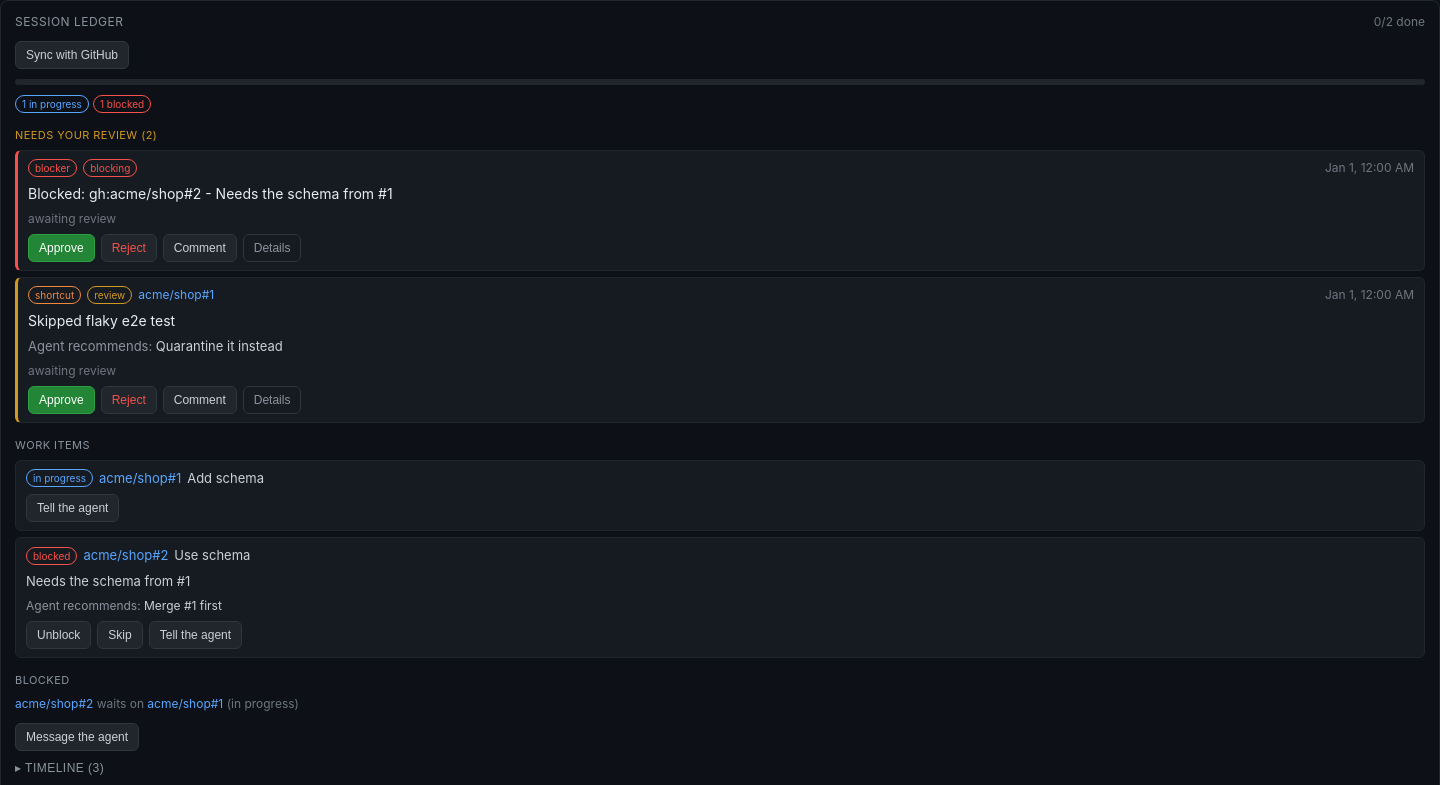
Test: LedgerPanel › reports GitHub errors from a sync, and a failed sync
This screenshot has width=1440, height=785.
Click the button "Sync with GitHub" at (72, 55), box [15,41,129,69]
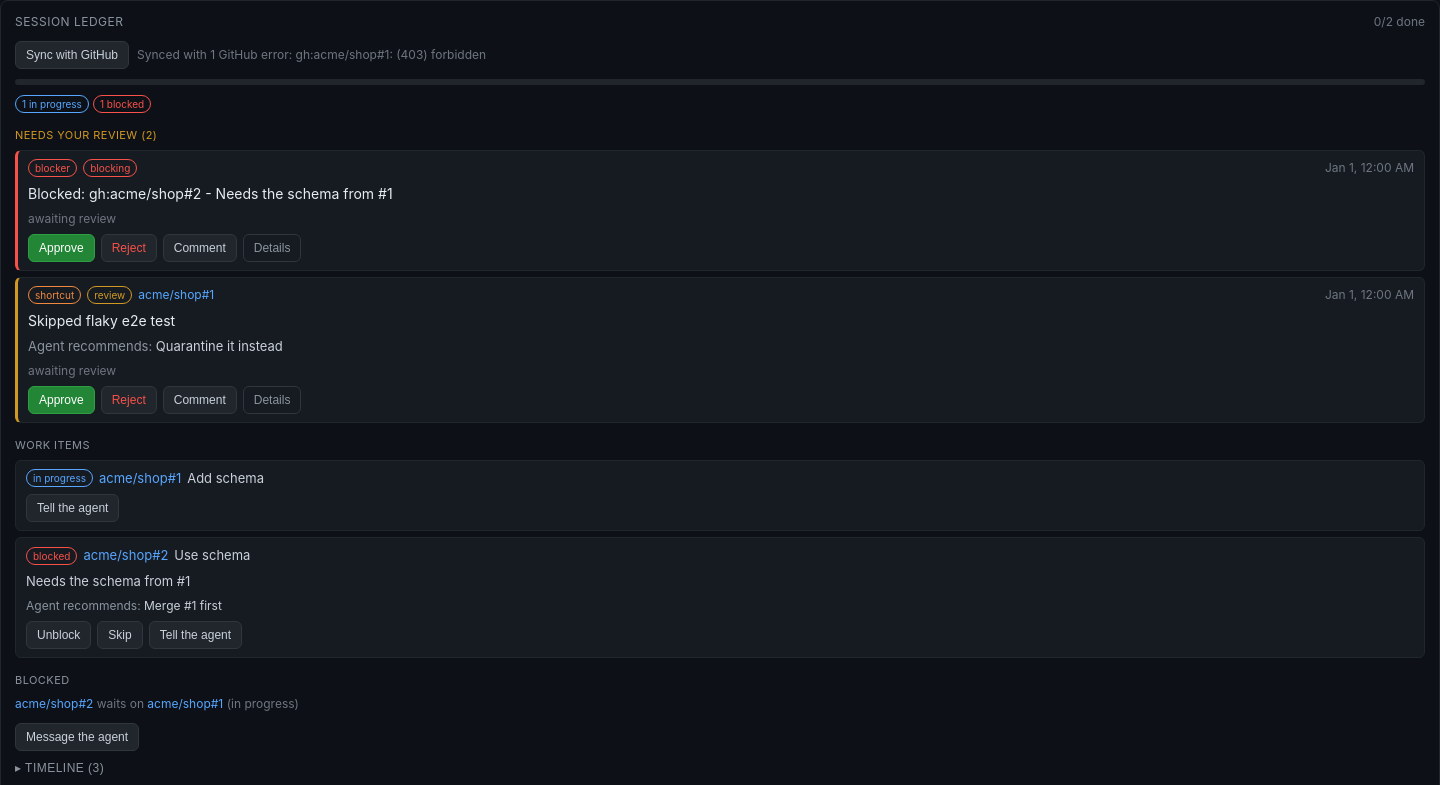
Check: the text "Synced with 1 GitHub error: gh:acme/shop#1: (403) forbidden" is shown, box [137,46,486,64]
Click the button "Sync with GitHub" at (72, 55), box [15,41,129,69]
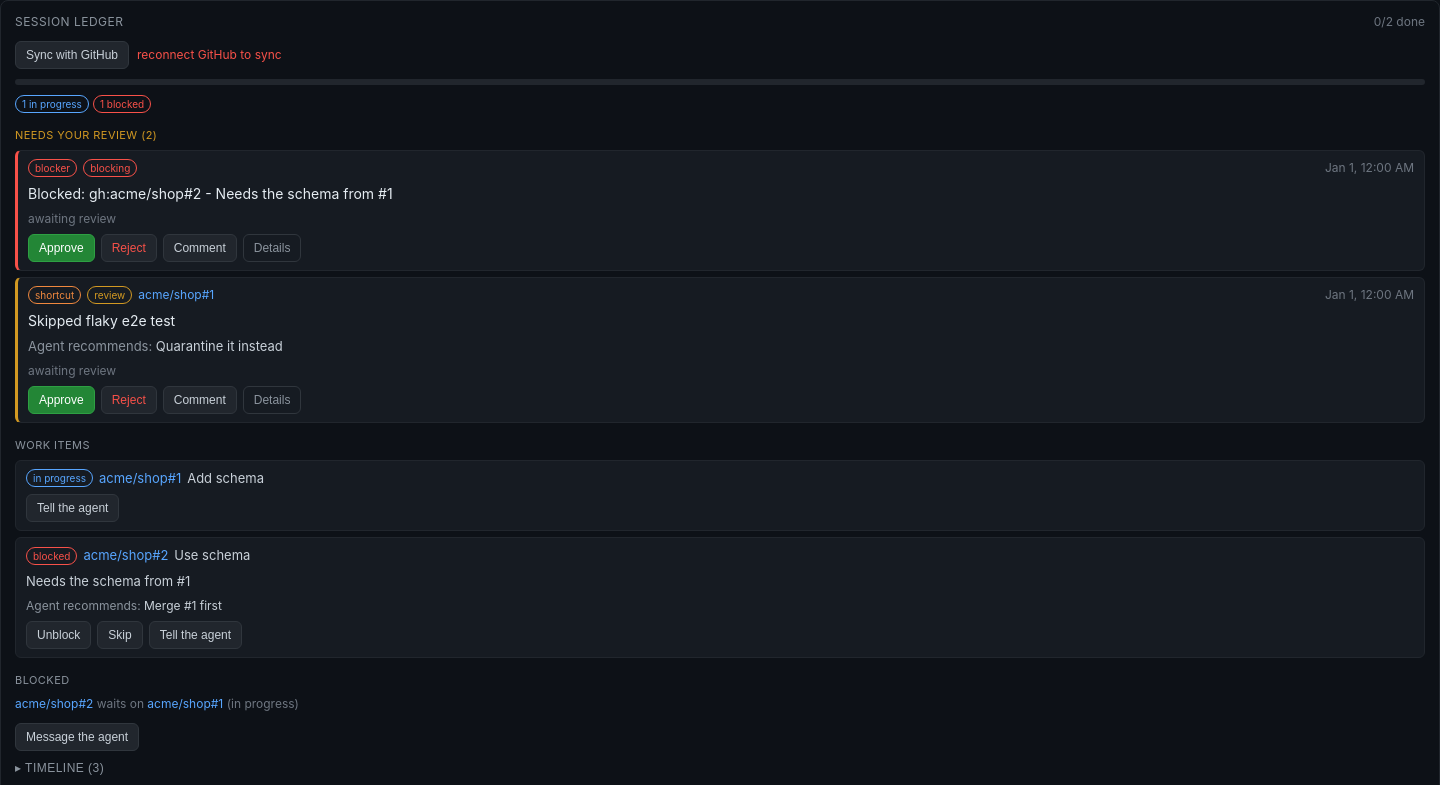
Check: the text "reconnect GitHub to sync" is shown, box [137,46,282,64]
